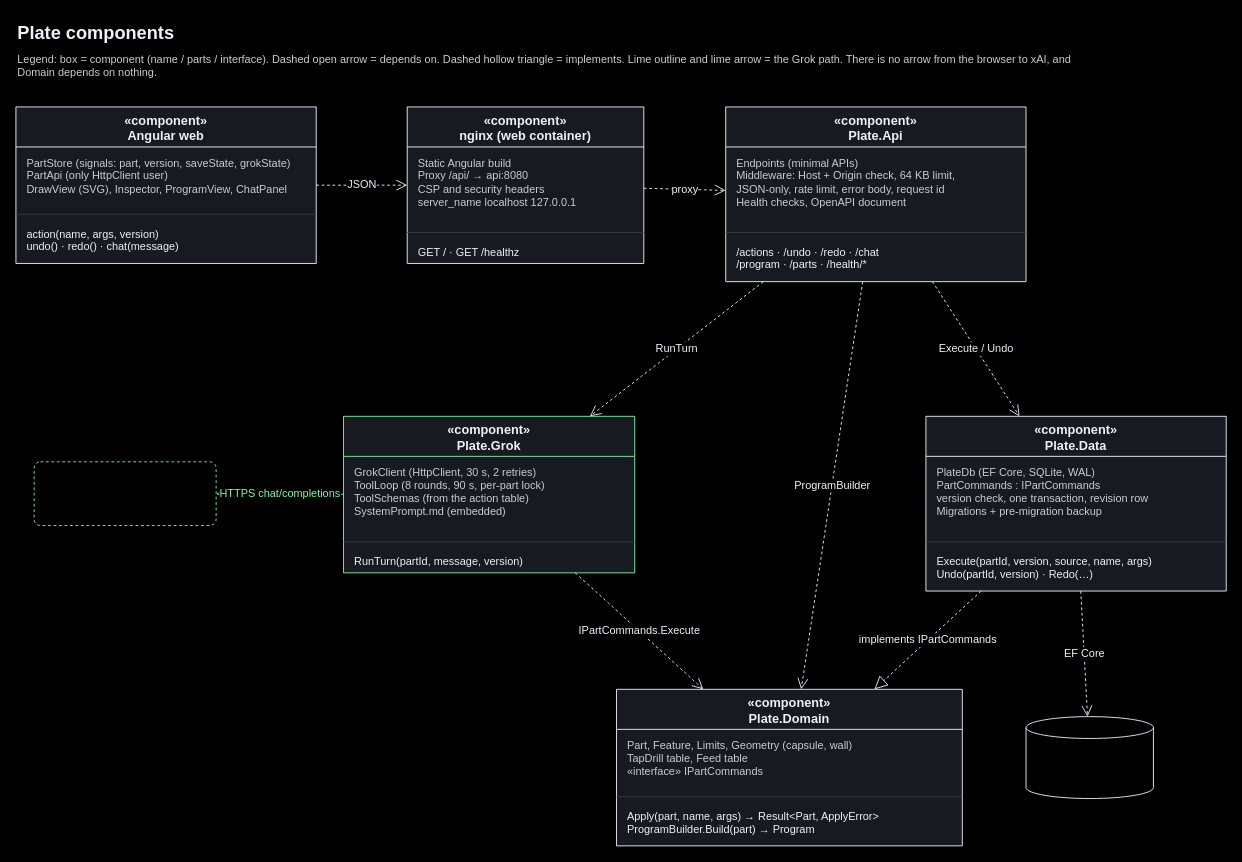
This 1242x862 diagram has some shape labels left out. The centre of each missing label's shape, as x and y in pixels:
api.x.ai (external): point (124, 493)
SQLite /data/plate.db: point (1089, 757)
